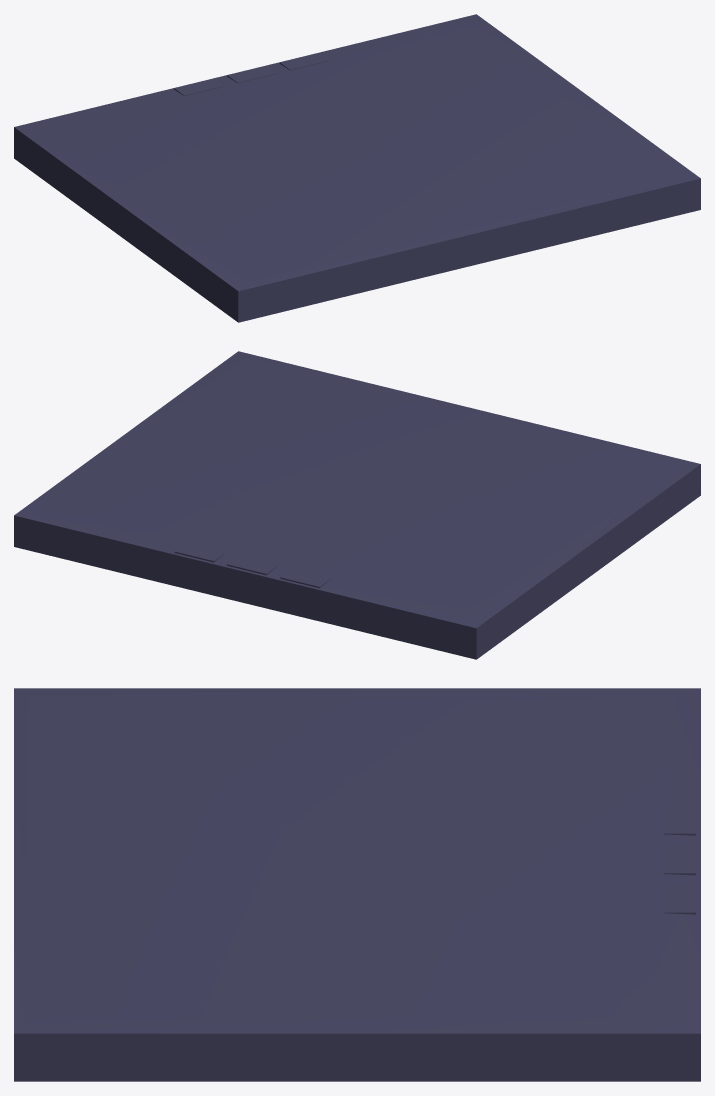
File: Tablet.fbx
The picture shows the model from 3 angles, top to bottom: view 1: azimuth 30°, elevation 25°; view 2: azimuth 150°, elevation 25°; view 3: azimuth 270°, elevation 25°; orthographic projection. The views are drawn at different scales.
Parts seen in each view (by area): view 1: Cube; view 2: Cube; view 3: Cube.
Part boxes in pixels (x1,y1,x2,y2): Cube: (14,14,700,322); Cube: (14,351,700,659); Cube: (14,688,700,1081).
Size of the model in its own units: 200 by 13.62 by 168.
